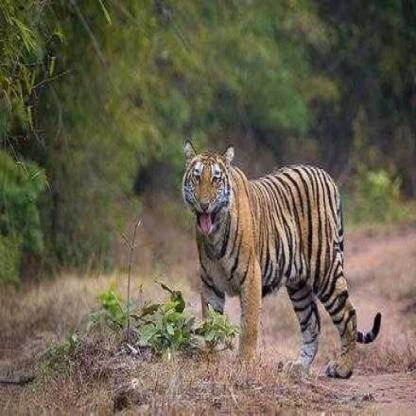Tiger: (152, 133, 389, 380)
